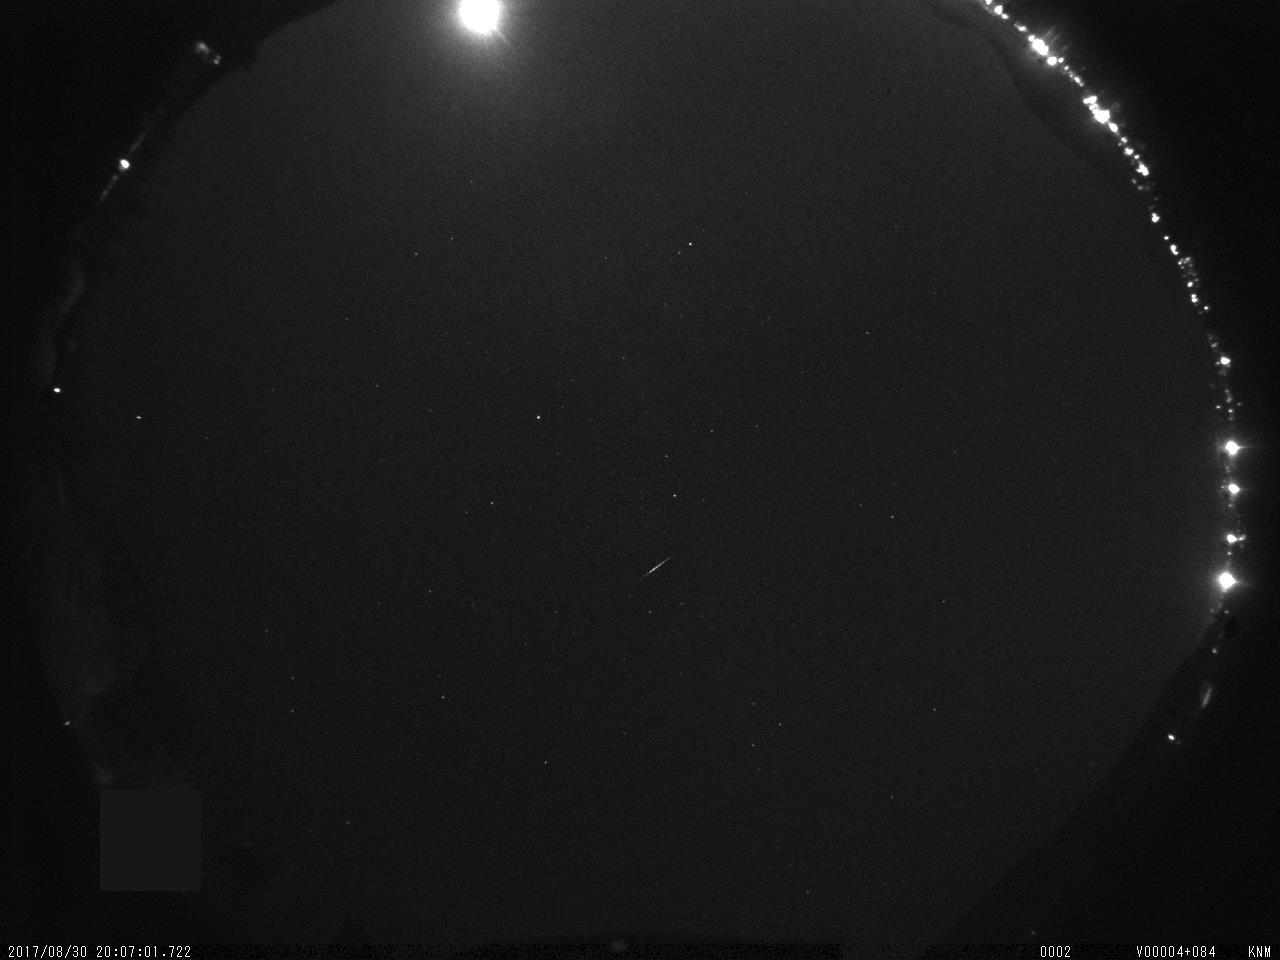meteor: (621, 543, 693, 582)
